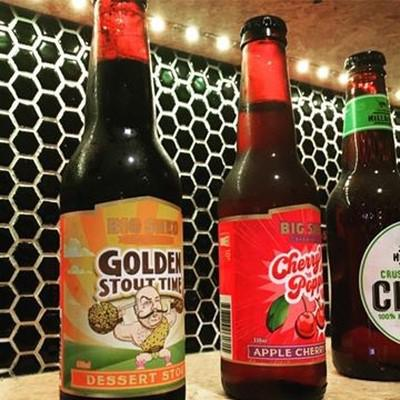beer: (56, 1, 400, 397)
